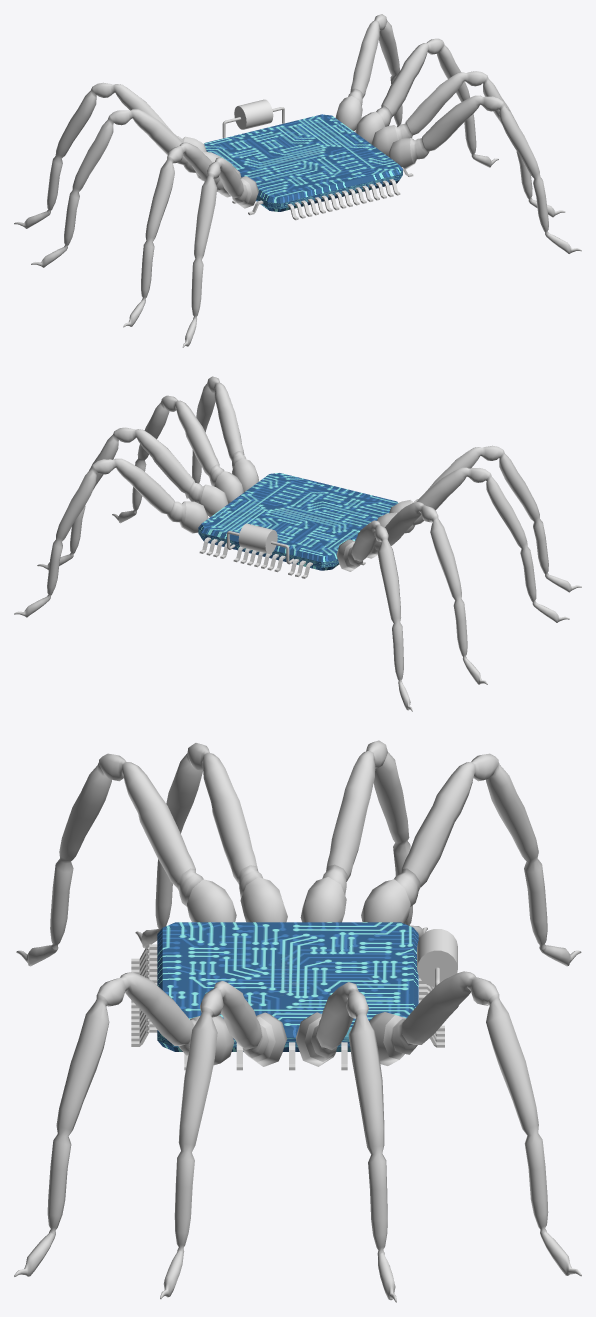
The model's file is павук.fbx.
3 views of the same model, one above another, from view 1: azimuth 30°, elevation 25°; view 2: azimuth 150°, elevation 25°; view 3: azimuth 270°, elevation 25° (orthographic). The views are drawn at different scales.
Parts seen in each view (by area): view 1: Box001, NGon008, NGon013, NGon015, NGon010, NGon014, NGon009, NGon011, NGon012, Cylinder001; view 2: Box001, NGon012, NGon013, NGon009, NGon014, NGon011, NGon015, NGon010, NGon008, Cylinder001; view 3: Box001, NGon010, NGon011, NGon012, NGon008, NGon014, NGon013, NGon009, NGon015, Cylinder002, Cylinder001.
Part boxes in pixels (bbox=[...]): Box001: bbox=[204, 114, 402, 211]; NGon008: bbox=[388, 95, 581, 253]; NGon013: bbox=[355, 38, 498, 167]; NGon015: bbox=[31, 109, 219, 267]; NGon010: bbox=[182, 157, 258, 347]; NGon014: bbox=[371, 71, 565, 217]; NGon009: bbox=[123, 142, 241, 327]; NGon011: bbox=[14, 82, 206, 228]; NGon012: bbox=[335, 14, 402, 130]; Cylinder001: bbox=[234, 101, 267, 129]; Box001: bbox=[198, 473, 398, 570]; NGon012: bbox=[14, 458, 208, 617]; NGon013: bbox=[37, 427, 228, 570]; NGon009: bbox=[377, 467, 569, 622]; NGon014: bbox=[112, 395, 243, 523]; NGon011: bbox=[336, 520, 412, 711]; NGon015: bbox=[357, 502, 487, 684]; NGon010: bbox=[389, 445, 581, 592]; NGon008: bbox=[185, 376, 258, 498]; Cylinder001: bbox=[244, 525, 277, 553]; Box001: bbox=[157, 922, 418, 1051]; NGon010: bbox=[16, 753, 236, 966]; NGon011: bbox=[361, 753, 581, 966]; NGon012: bbox=[369, 971, 581, 1276]; NGon008: bbox=[14, 972, 234, 1276]; NGon014: bbox=[160, 981, 287, 1299]; NGon013: bbox=[296, 982, 396, 1302]; NGon009: bbox=[135, 743, 287, 948]; NGon015: bbox=[300, 740, 427, 939]; Cylinder002: bbox=[417, 946, 457, 987]; Cylinder001: bbox=[417, 929, 457, 963].
Bounding box in the file's own units: 33.84 × 10.72 × 21.75.
